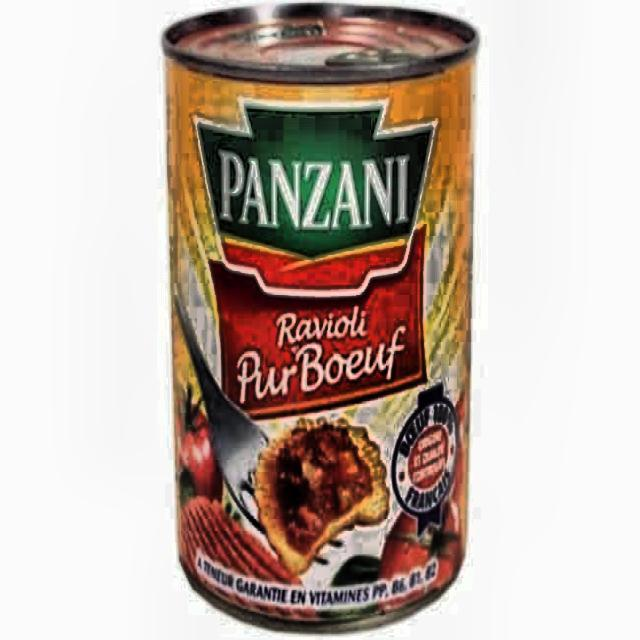Cans: (162, 8, 479, 640)
